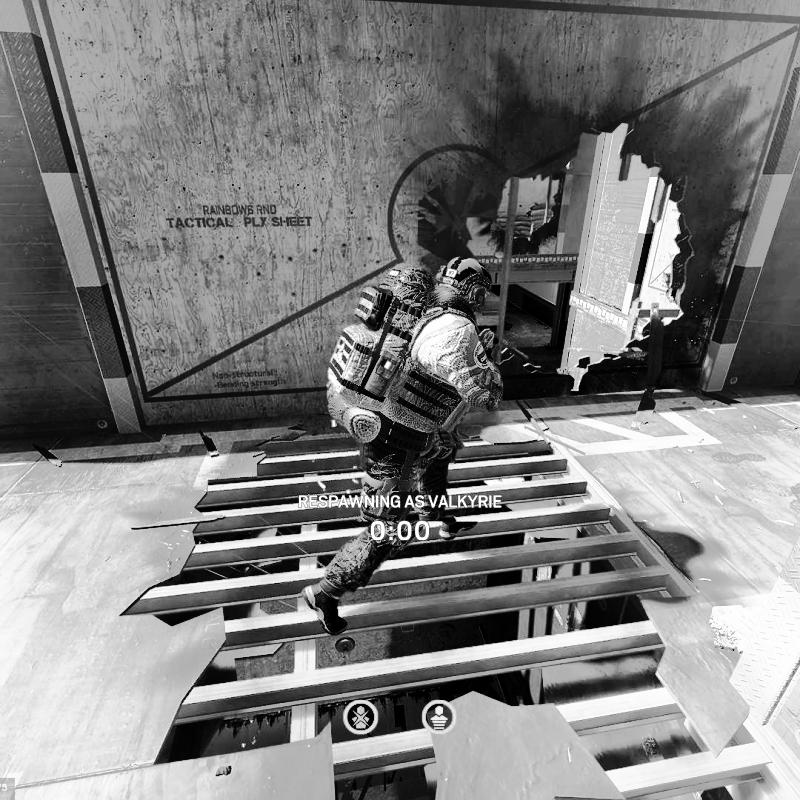Character: (300, 251, 512, 637), (438, 670, 506, 710)
Head: (436, 255, 492, 309), (466, 671, 492, 695)
